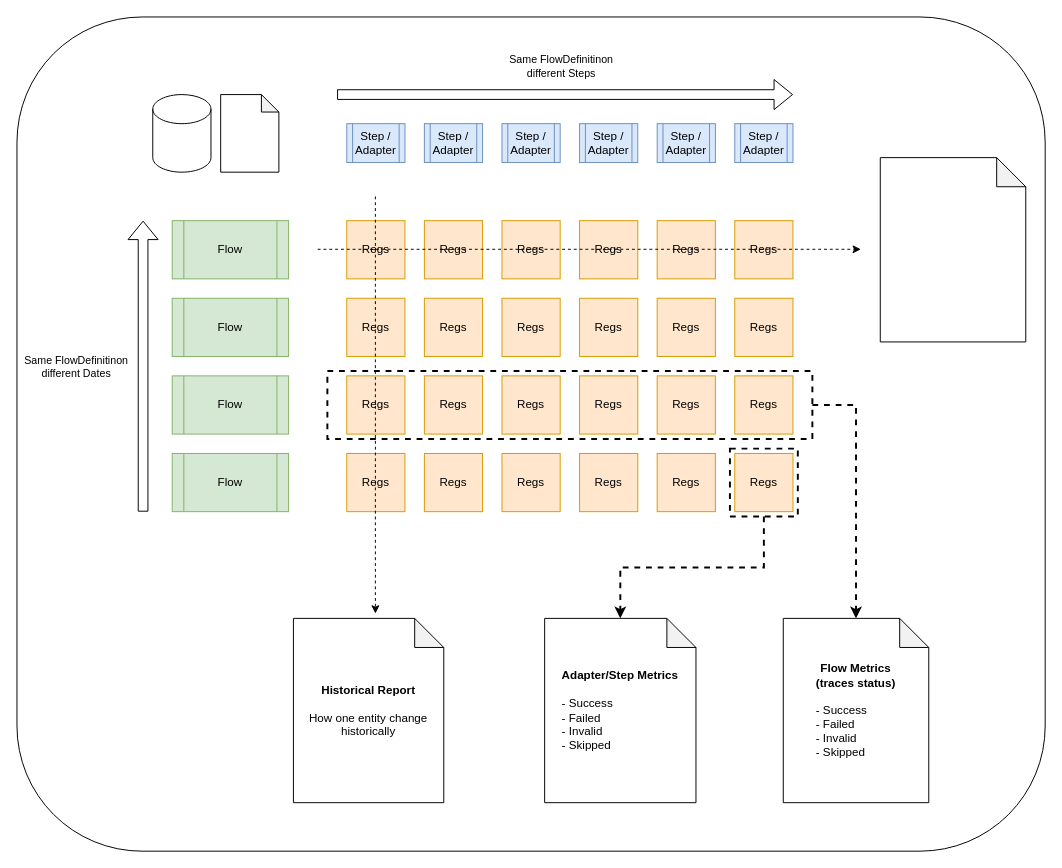
Some shapes in this 1062 by 868 pixel diagram are drawn without their labels. The box of each missing label's shape, as (x1, y1, x2, y2) in pixels:
Flow Definition: (220, 94, 279, 172)
Registers: (152, 94, 211, 172)
Tracing Report How one entity change between steps: (879, 157, 1026, 342)
